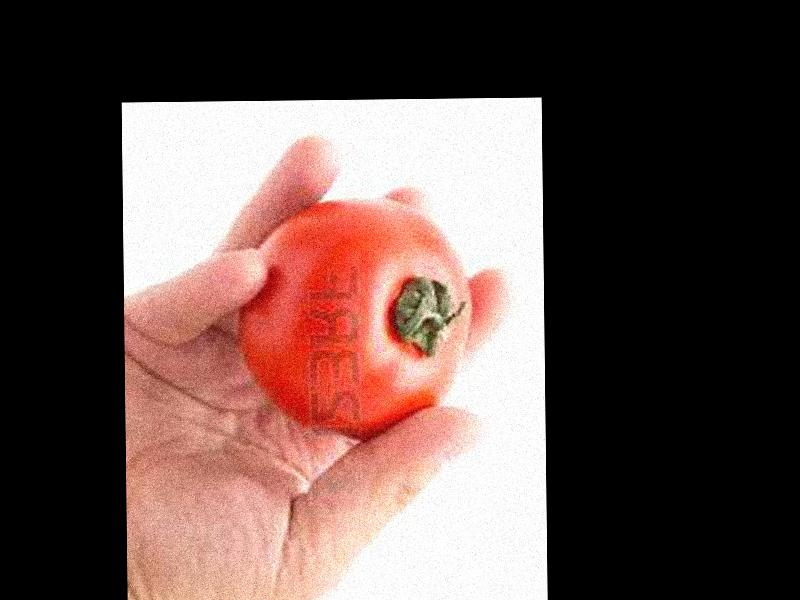Tomato: (238, 196, 473, 438)
